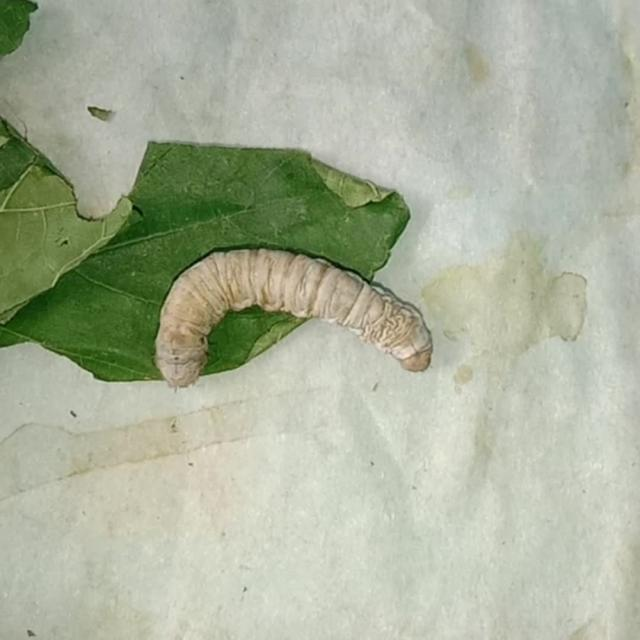Grasserie: (150, 202, 494, 399)
